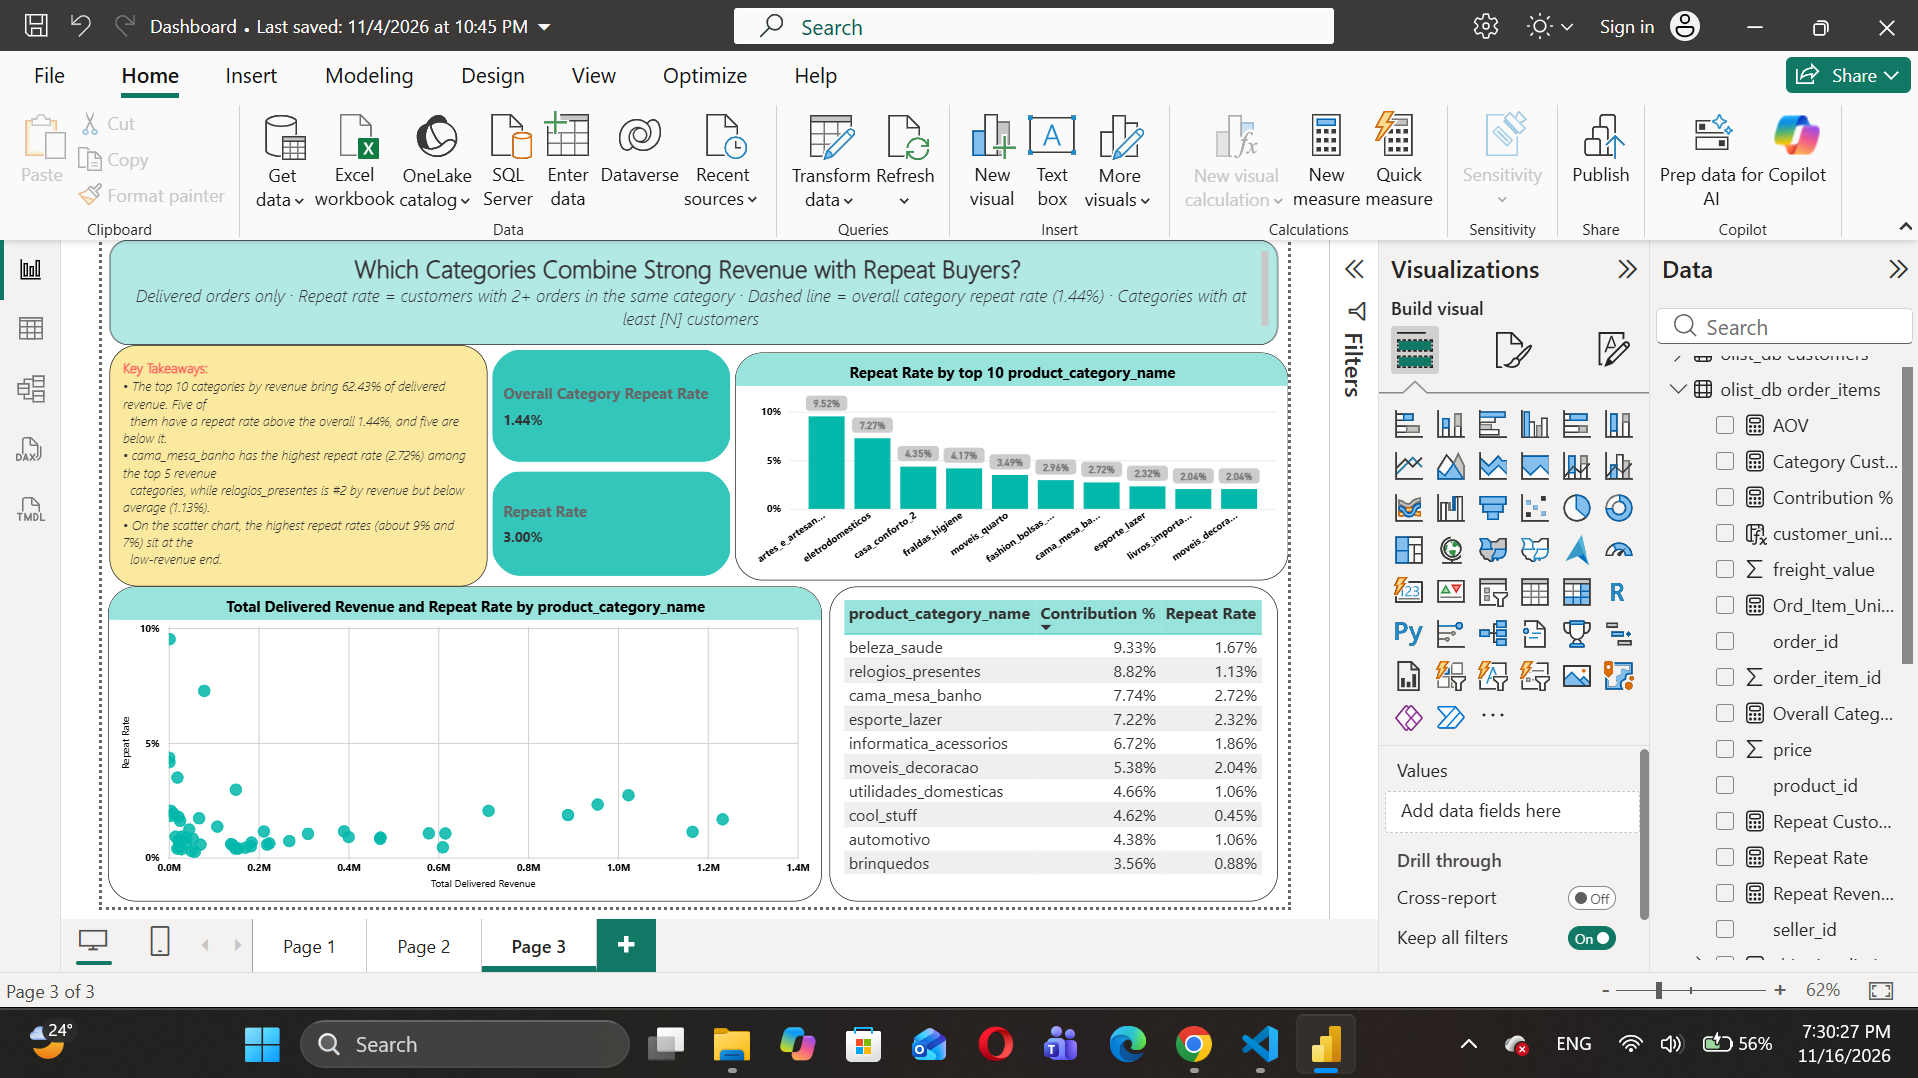

What the dashboard file says about the page in this screenshot:
{"tool":"powerbi","page":{"name":"Page 3","canvas":[1280,720],"ordinal":2},"visuals":[{"type":"cardVisual","fields":{"Data":["olist_db order_items.Overall Category Repeat Rate"]},"box":[416.1,113.3,267.2,131.2],"z":0},{"type":"tableEx","fields":{"Values":["olist_db products.product_category_name","olist_db order_items.Contribution %","olist_db order_items.Repeat Rate"]},"box":[785.3,374,484.1,340],"z":1000},{"type":"scatterChart","fields":{"Category":["olist_db products.product_category_name"],"X":["olist_db order_items.Total Delivered Revenue"],"Y":["olist_db order_items.Repeat Rate"]},"box":[6.5,374,770.8,340],"z":2000},{"type":"columnChart","title":"Repeat Rate by top 10 product_category_name","fields":{"Category":["olist_db product_category_translation.product_category_name"],"Y":["olist_db order_items.Repeat Rate"]},"box":[682.5,121.4,597.5,246.1],"z":3000},{"type":"textbox","box":[8.1,0,1261.4,113.3],"z":4000},{"type":"cardVisual","fields":{"Data":["olist_db order_items.Repeat Rate"]},"box":[416.1,244.5,267.2,123.1],"z":5000},{"type":"textbox","box":[8.1,113.3,408,260.7],"z":6000}]}

Visuals, with their boxes on the page's 1280x720 design canvas (x1, y1, x2, y2). These are canvas units, not pixel positions in the 1918x1078 screenshot, which may show the page scaled, cropped or inside an application window:
cardVisual - olist_db order_items.Overall Category Repeat Rate: select_region(416, 113, 683, 244)
tableEx - olist_db products.product_category_name x olist_db order_items.Contribution %: select_region(785, 374, 1269, 714)
scatterChart - olist_db products.product_category_name x olist_db order_items.Total Delivered Revenue: select_region(6, 374, 777, 714)
"Repeat Rate by top 10 product_category_name" columnChart: select_region(682, 121, 1280, 368)
textbox: select_region(8, 0, 1270, 113)
cardVisual - olist_db order_items.Repeat Rate: select_region(416, 244, 683, 368)
textbox: select_region(8, 113, 416, 374)
